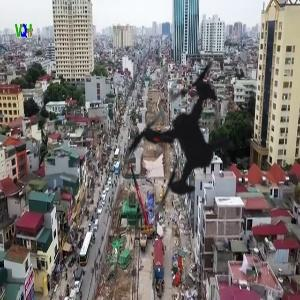drone: (73, 24, 299, 250)
